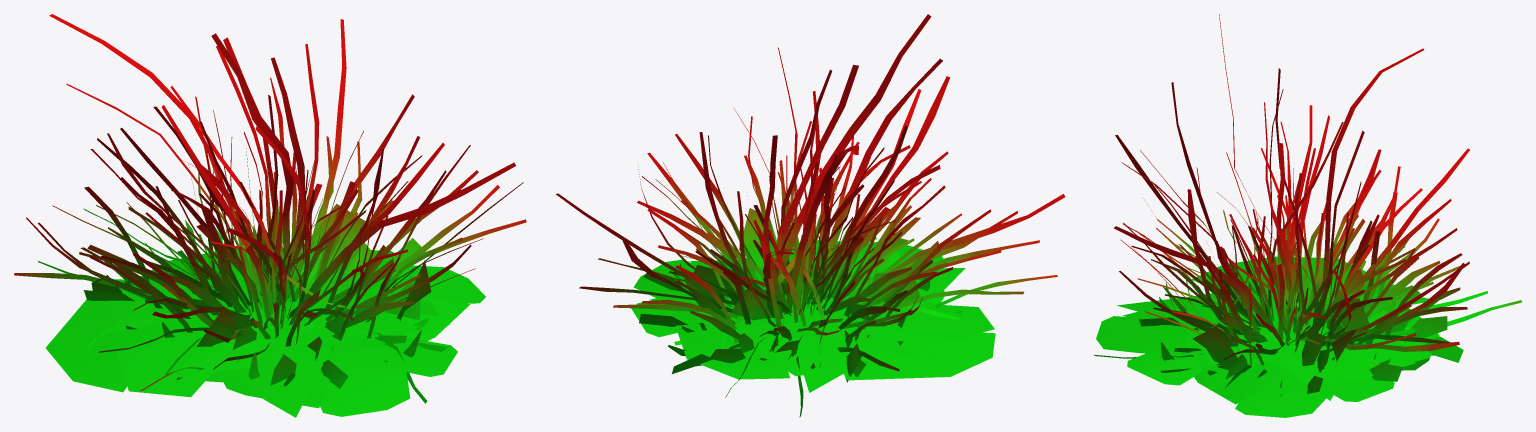
File: Var11_LOD3.fbx
3 renders of one model, left to right at view 1: azimuth 30°, elevation 25°; view 2: azimuth 150°, elevation 25°; view 3: azimuth 270°, elevation 25°, orthographic. The views are drawn at different scales.
Visible parts, largest first — view 1: _i8eh_Var11_LOD3; view 2: _i8eh_Var11_LOD3; view 3: _i8eh_Var11_LOD3.
Boxes of the visible parts, <box> form: _i8eh_Var11_LOD3: <box>14,14,526,417</box>; _i8eh_Var11_LOD3: <box>556,14,1065,417</box>; _i8eh_Var11_LOD3: <box>1094,14,1521,417</box>.
Size of the model in its own units: 87.95 by 69.49 by 91.61.
